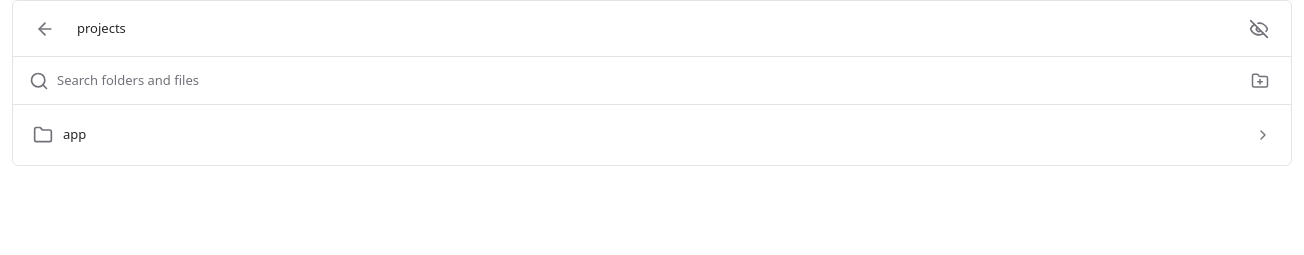
Test: WorkspacePicker new folder › shows the server error inline when creation fails
Click the button with test id "workspace-picker-new-folder".
click(1260, 80)  # box [1245,66,1275,96]
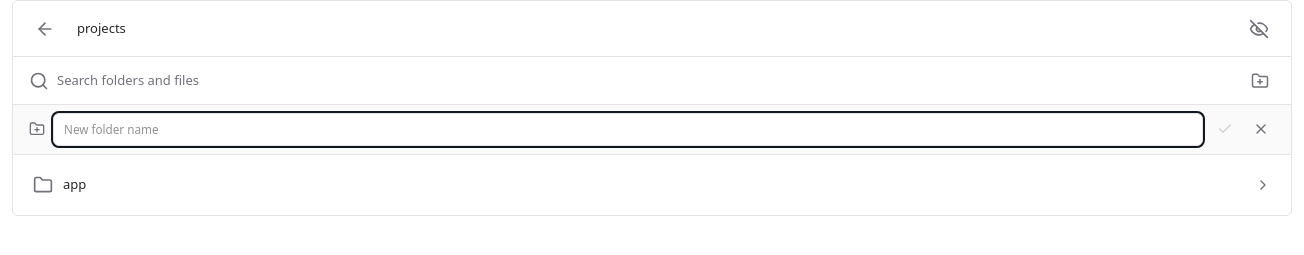
Type "app" into the field with test id "workspace-picker-new-folder-input".
click(628, 129); type("app")  # box [53,113,1203,146]
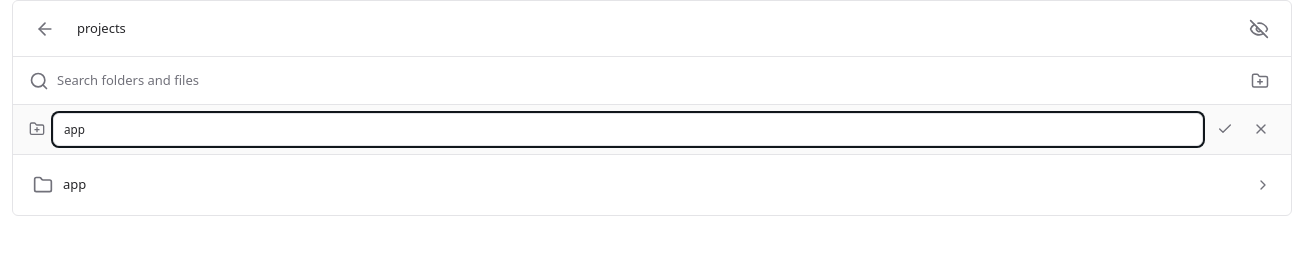
Click the button with test id "workspace-picker-new-folder-create".
click(1225, 129)  # box [1211,115,1239,143]
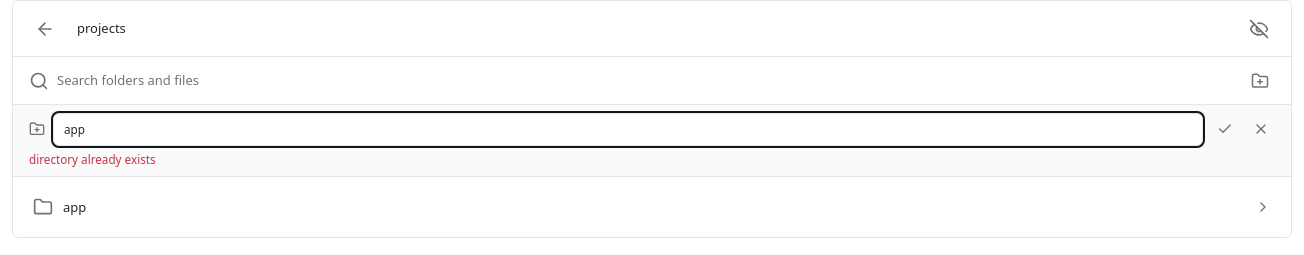
Result: the message shows "already exists" at [29,151,156,167]
